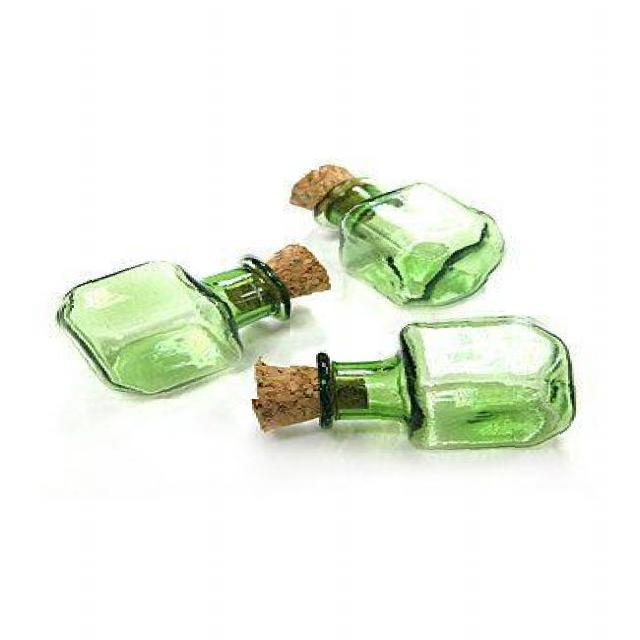Glass: (314, 314, 580, 450), (56, 251, 290, 399), (312, 180, 508, 316)
